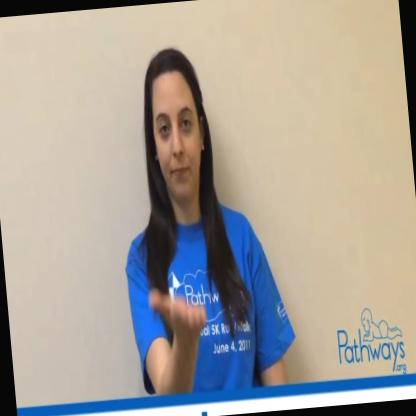ThankYou: (114, 38, 251, 367)
